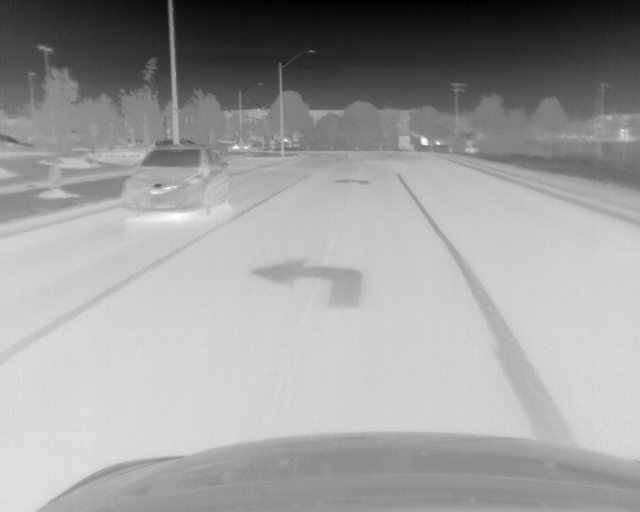car: (123, 147, 232, 217), (1, 133, 41, 154), (155, 136, 207, 150)
